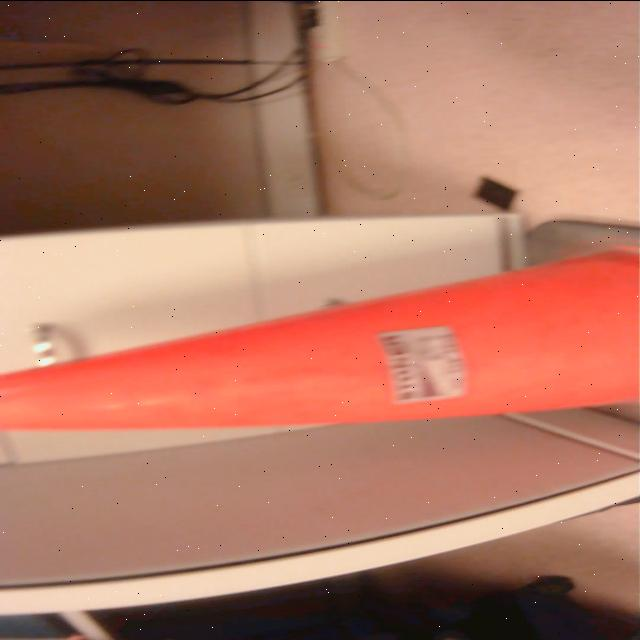traffic cone: (1, 203, 640, 452)
